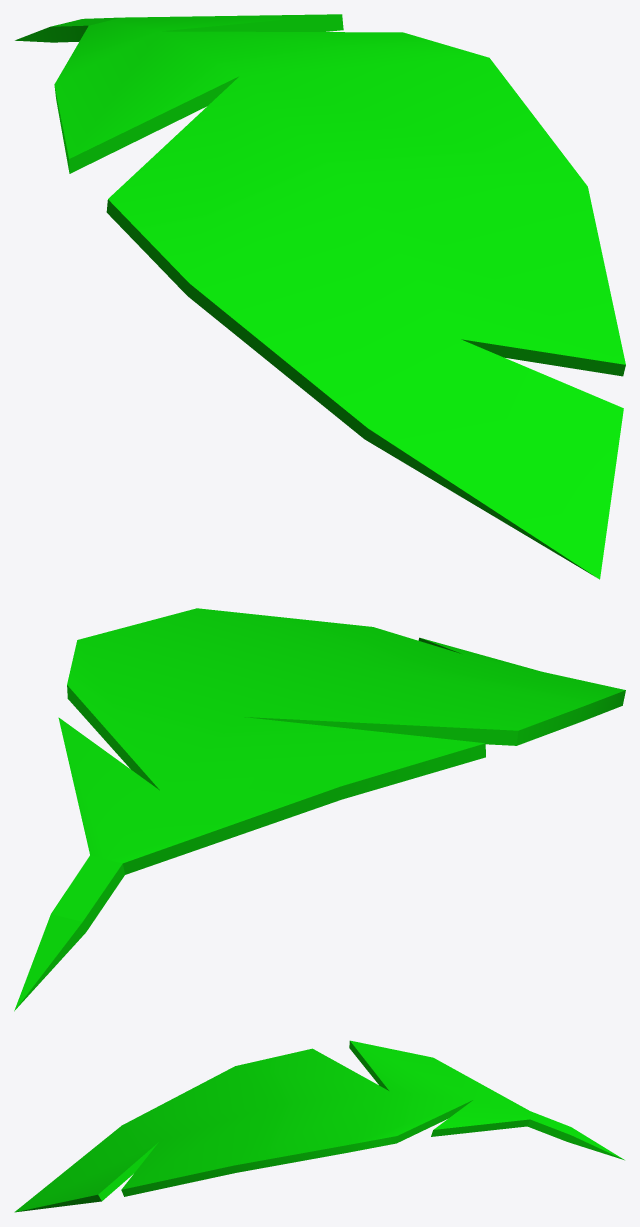
Rendered from palm_2.fbx.
The picture shows the model from 3 angles, top to bottom: view 1: azimuth 30°, elevation 25°; view 2: azimuth 150°, elevation 25°; view 3: azimuth 270°, elevation 25°; orthographic projection. The views are drawn at different scales.
Visible parts, largest first — view 1: Palm_2; view 2: Palm_2; view 3: Palm_2.
Boxes of the visible parts, x1,y1,x2,y2 form: Palm_2: (15,14,625,579); Palm_2: (14,608,625,1011); Palm_2: (14,1040,624,1212).
Bounding box in the file's own units: 2.07 × 1.12 × 5.08.
